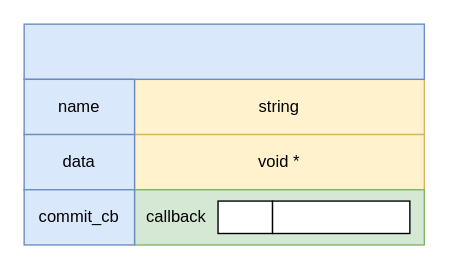
The diagram is 449 pixels wide and 269 high, and some of its shapes have lost their labels. The centre of each missing label's shape, as x and y in pixels:
"path" belongs at point (245, 216).
"registry_path_t" belongs at point (340, 216).
"Schema Instance" belongs at point (223, 51).
